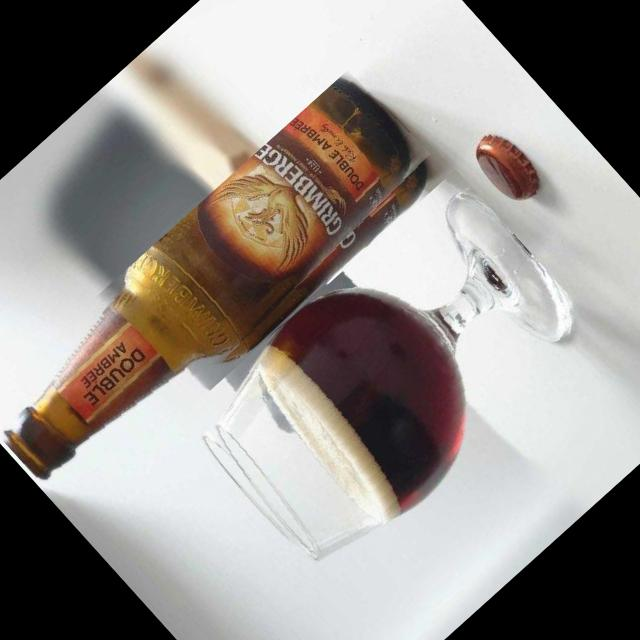Glass: (0, 64, 447, 512), (175, 168, 604, 586)
